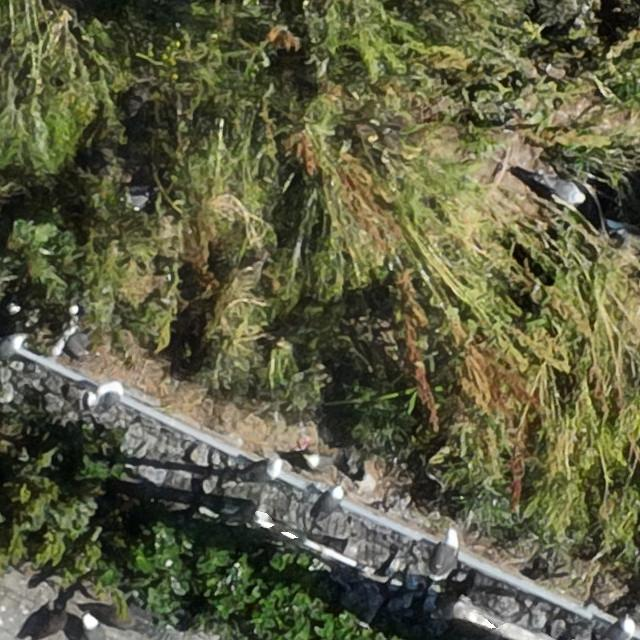umineko: (432, 526, 461, 574), (81, 381, 124, 413), (236, 457, 281, 483), (312, 487, 343, 524), (595, 618, 636, 640), (546, 180, 584, 203), (1, 334, 24, 360), (305, 453, 336, 470), (82, 616, 100, 639)
